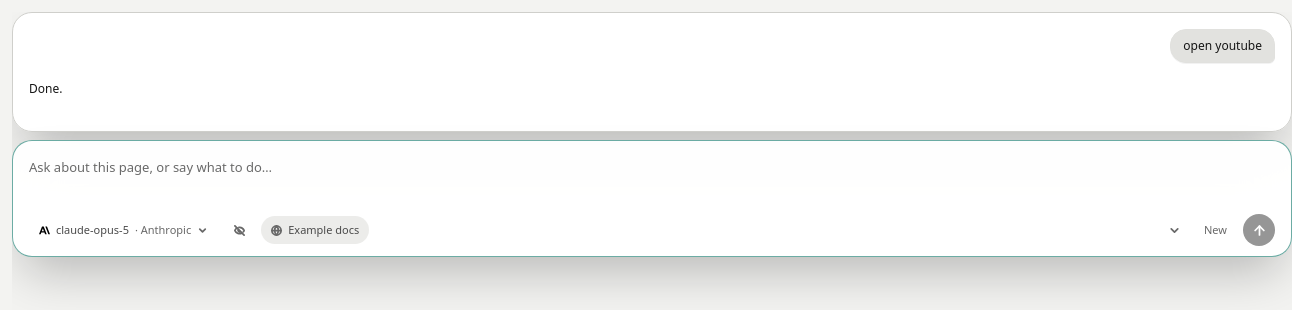
Test: Thread › minimises the conversation while keeping the composer
The image size is (1292, 310).
Expected: the text "open youtube" is shown, x1=1170 y1=29 x2=1275 y2=63
Step 1. Click the button named "Minimise the conversation" → (1174, 230), box x1=1160 y1=216 x2=1188 y2=244
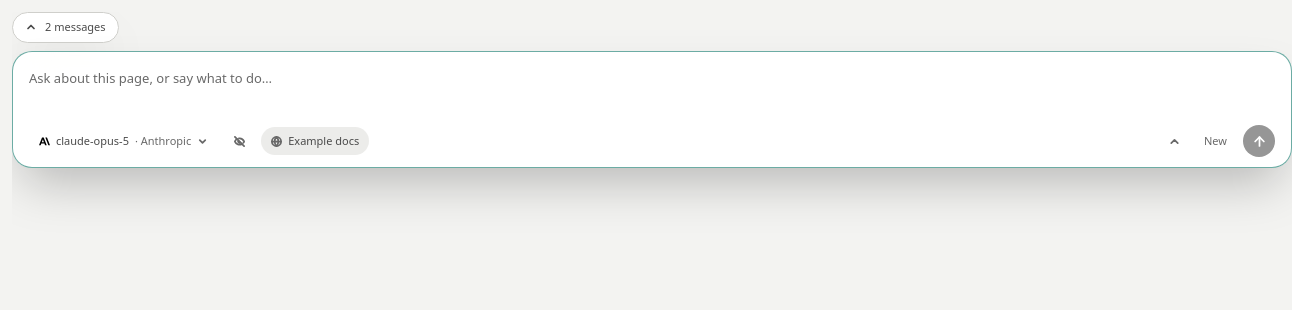
Expected: the text box with placeholder "Ask about this page, or say what to do…" is shown, x1=29 y1=66 x2=1275 y2=114
Now the text "open youtube" is gone
// And there is a way back that says what is waiting.
Step 2. Click the button "2 messages" → (65, 27), box x1=12 y1=12 x2=119 y2=42
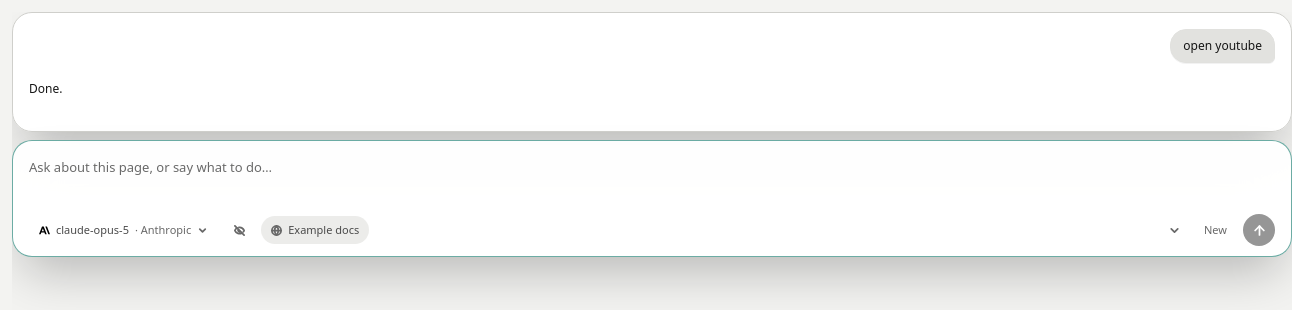
Now the text "open youtube" is shown, box x1=1170 y1=29 x2=1275 y2=63
